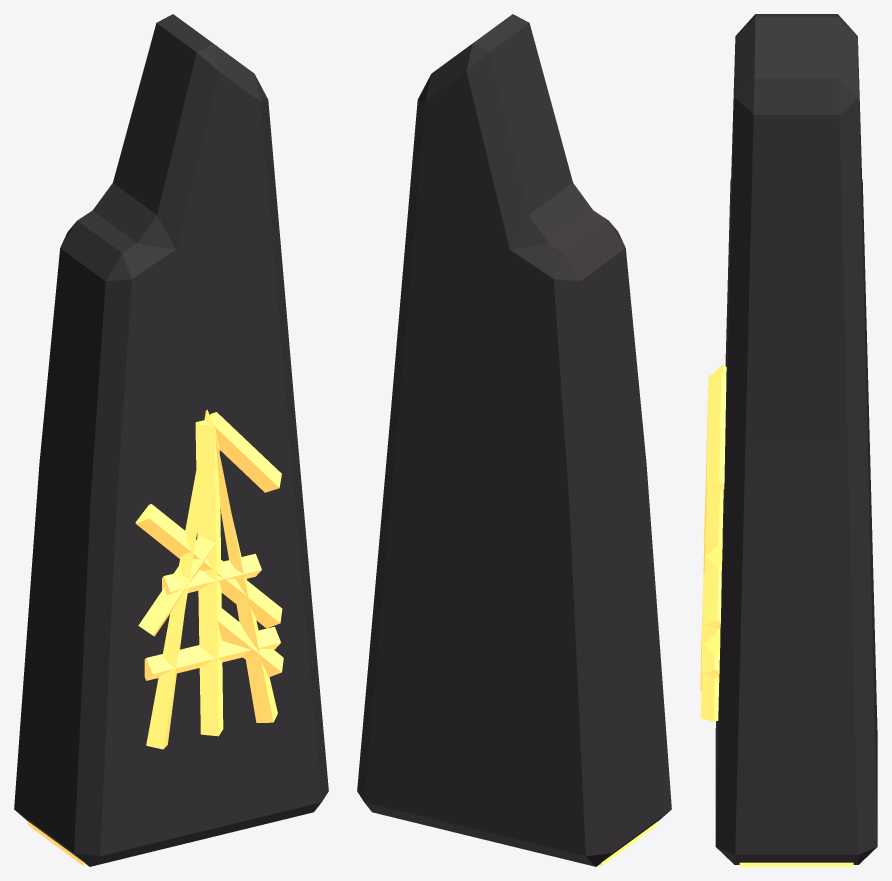
Rendered from rune_stone.glb.
3 renders of one model, left to right at view 1: azimuth 30°, elevation 25°; view 2: azimuth 150°, elevation 25°; view 3: azimuth 270°, elevation 25°, orthographic. The views are drawn at different scales.
Parts seen in each view (by area): view 1: stone2_mesh, stone1_mesh, stone0_mesh; view 2: stone2_mesh; view 3: stone2_mesh, stone1_mesh, stone0_mesh.
Part boxes in pixels (x1,y1,x2,y2): stone2_mesh: (14,14,328,866); stone1_mesh: (146,409,277,749); stone0_mesh: (135,420,282,733); stone2_mesh: (357,14,671,866); stone2_mesh: (700,14,877,866); stone1_mesh: (700,364,726,721); stone0_mesh: (704,381,726,655).
Bounding box in the file's own units: 0.2774 × 0.8152 × 0.1632.
